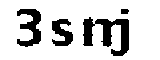3: (11, 4, 47, 49)
j: (112, 5, 132, 60)
n: (81, 13, 113, 50)
s: (50, 17, 77, 51)
